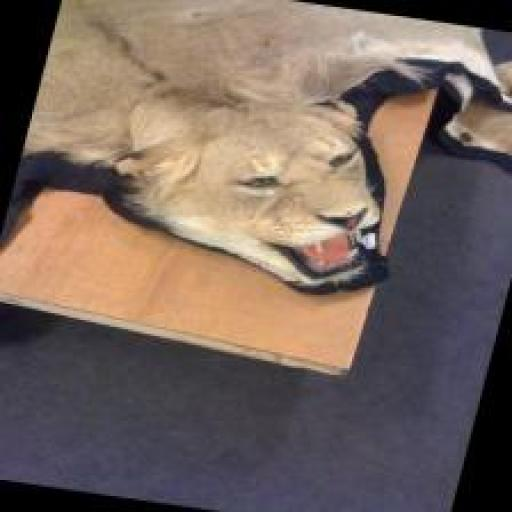lion: (0, 0, 511, 320)
